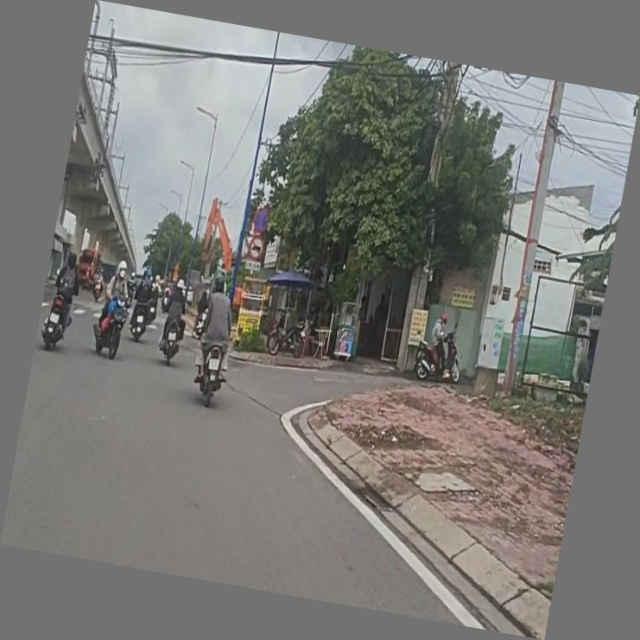B.8a: (247, 234, 266, 261)
P.130: (252, 206, 272, 235)
